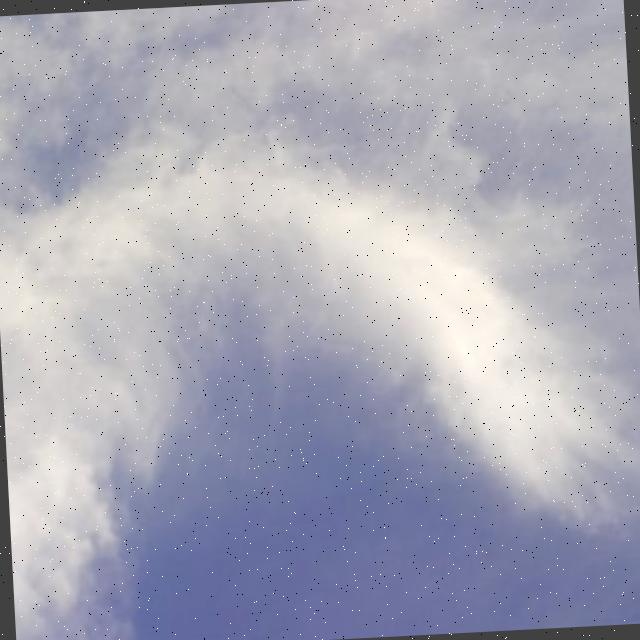Ci: (1, 3, 640, 631)
